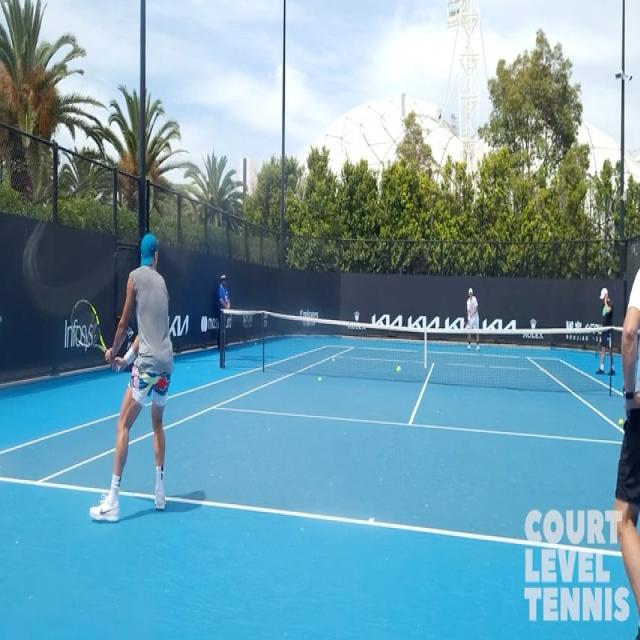backhand-ready: (74, 224, 195, 520)
